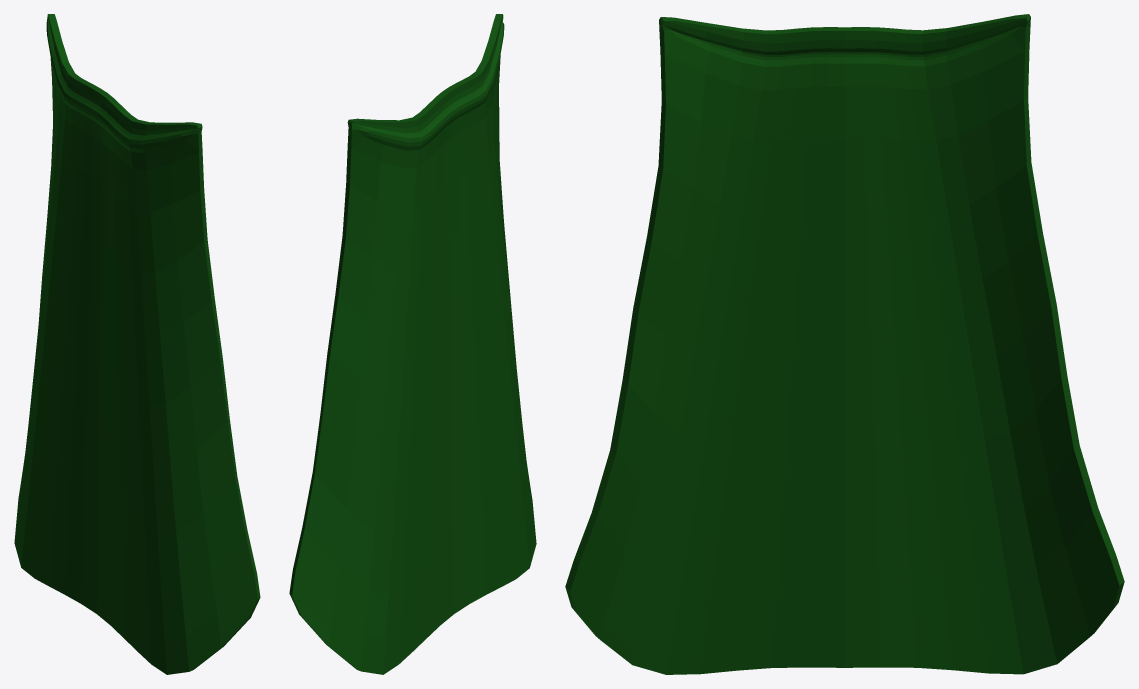
File: Character Textured - backup.fbx
3 views of the same model, side by side, from view 1: azimuth 30°, elevation 25°; view 2: azimuth 150°, elevation 25°; view 3: azimuth 270°, elevation 25° (orthographic). The views are drawn at different scales.
Visible parts, largest first — view 1: cape.001; view 2: cape.001; view 3: cape.001.
Boxes of the visible parts, left/top/right/bottom form: cape.001: left=14, top=14, right=260, bottom=674; cape.001: left=289, top=14, right=536, bottom=674; cape.001: left=565, top=14, right=1124, bottom=674.
Bounding box in the file's own units: 52.01 × 481 × 362.
